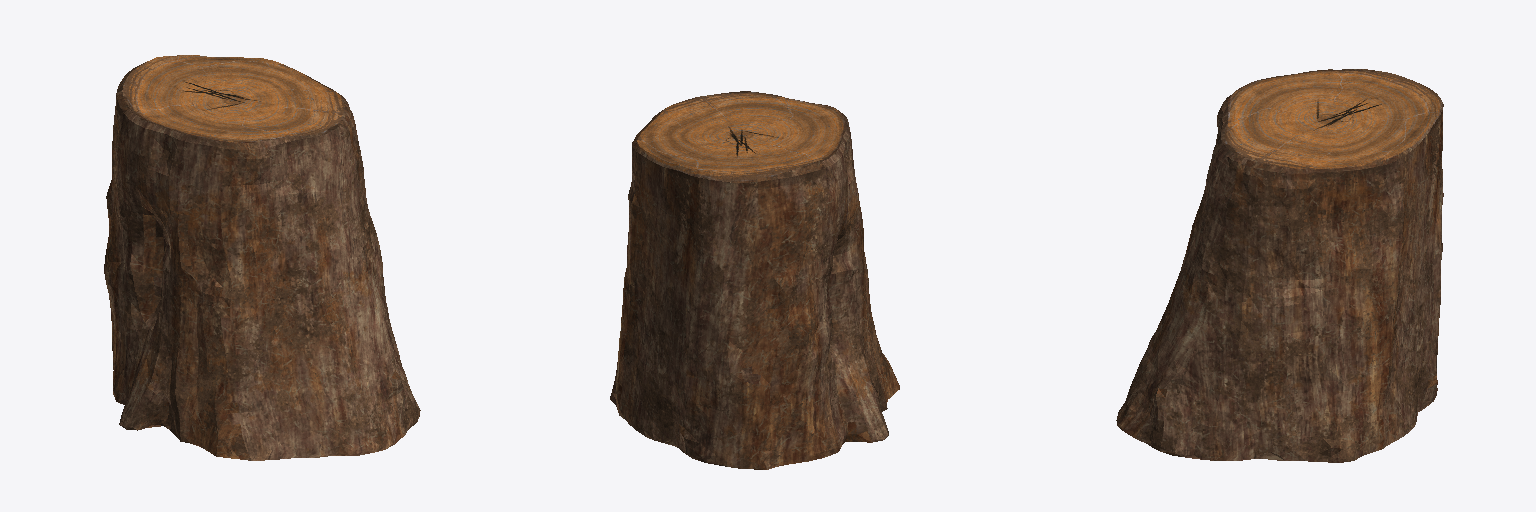
3 renders of one model, left to right at view 1: azimuth 30°, elevation 25°; view 2: azimuth 150°, elevation 25°; view 3: azimuth 270°, elevation 25°, orthographic.
Visible parts, largest first — view 1: obj4; view 2: obj4; view 3: obj4.
Boxes of the visible parts, box(x1,y1,x2,y2) form: obj4: box(104, 55, 420, 460); obj4: box(610, 91, 899, 469); obj4: box(1116, 69, 1443, 462).
Bounding box in the file's own units: 0.4474 × 0.494 × 0.5023.
1 materials, 1 textured.